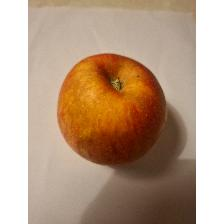Apfel: (52, 48, 170, 168)
